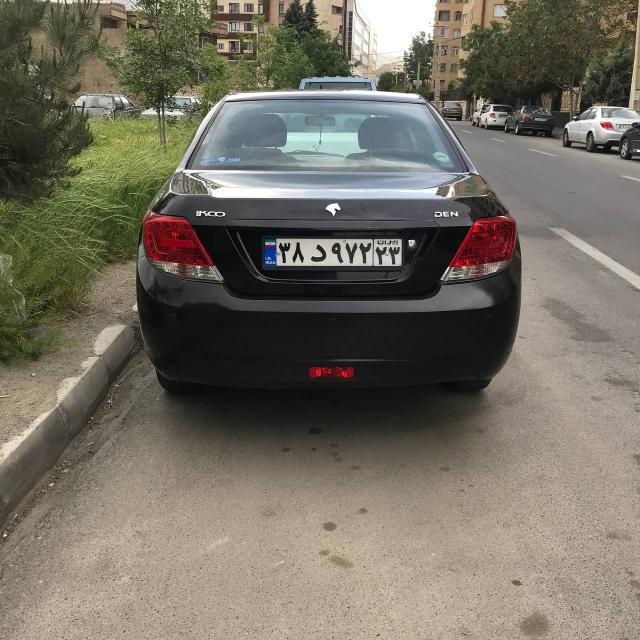Plates: (264, 239, 402, 266)
